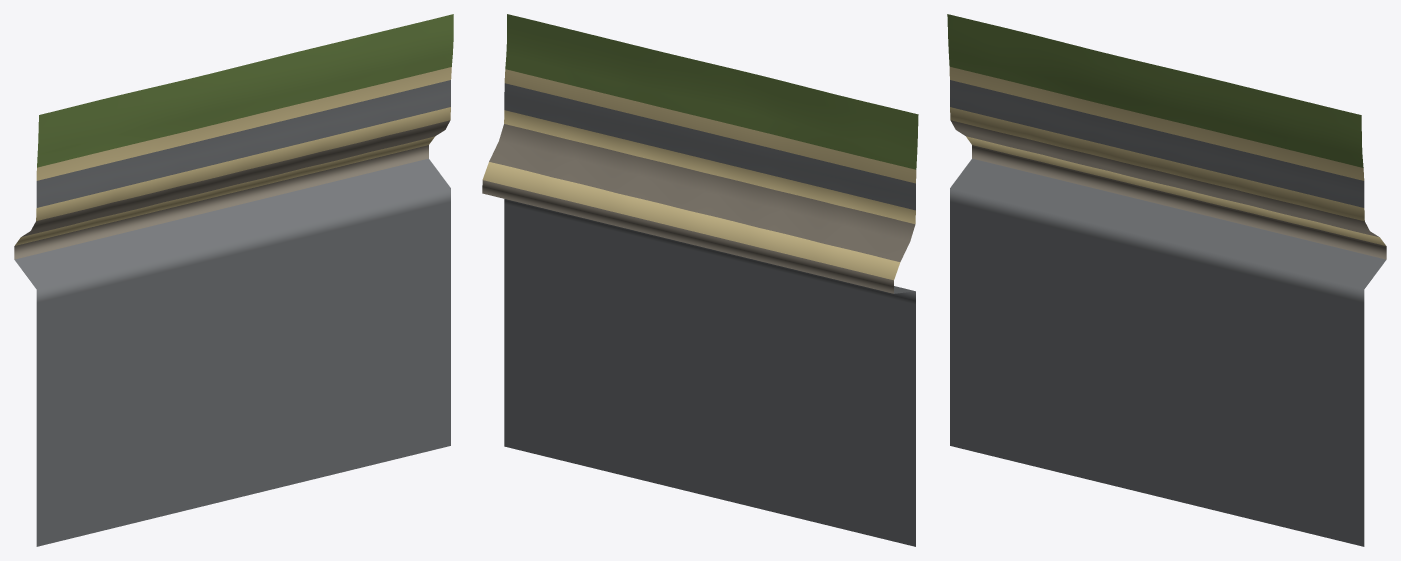
File: island_terrain_10_04.obj
3 renders of one model, left to right at view 1: azimuth 30°, elevation 25°; view 2: azimuth 150°, elevation 25°; view 3: azimuth 330°, elevation 25°, orthographic.
Parts seen in each view (by area): view 1: island_terrain_10_04; view 2: island_terrain_10_04; view 3: island_terrain_10_04.
Boxes of the visible parts, left/top/right/bottom form: island_terrain_10_04: left=14, top=14, right=453, bottom=546; island_terrain_10_04: left=482, top=14, right=918, bottom=546; island_terrain_10_04: left=947, top=14, right=1386, bottom=546.
Bounding box in the file's own units: 256 × 256 × 26.92.
